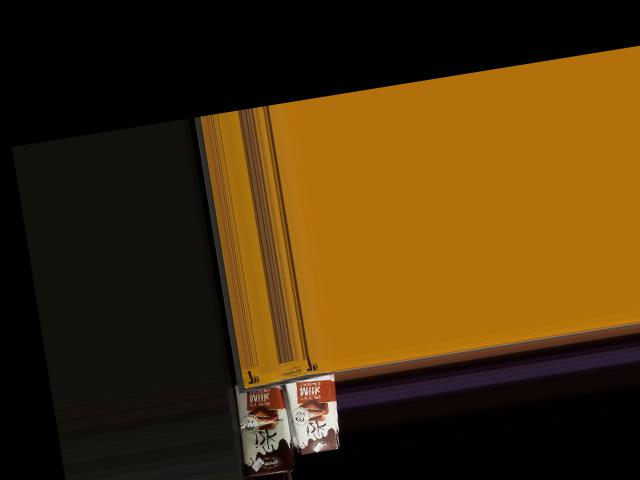chocolate: (283, 363, 350, 457)
